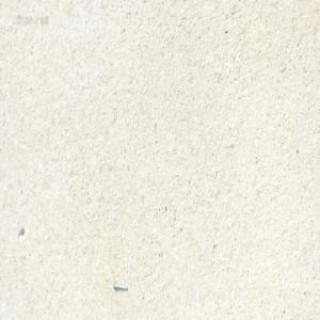Nailtrack_idkeyframe: (110, 280, 126, 290)
